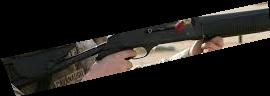gun: (1, 1, 270, 96)
